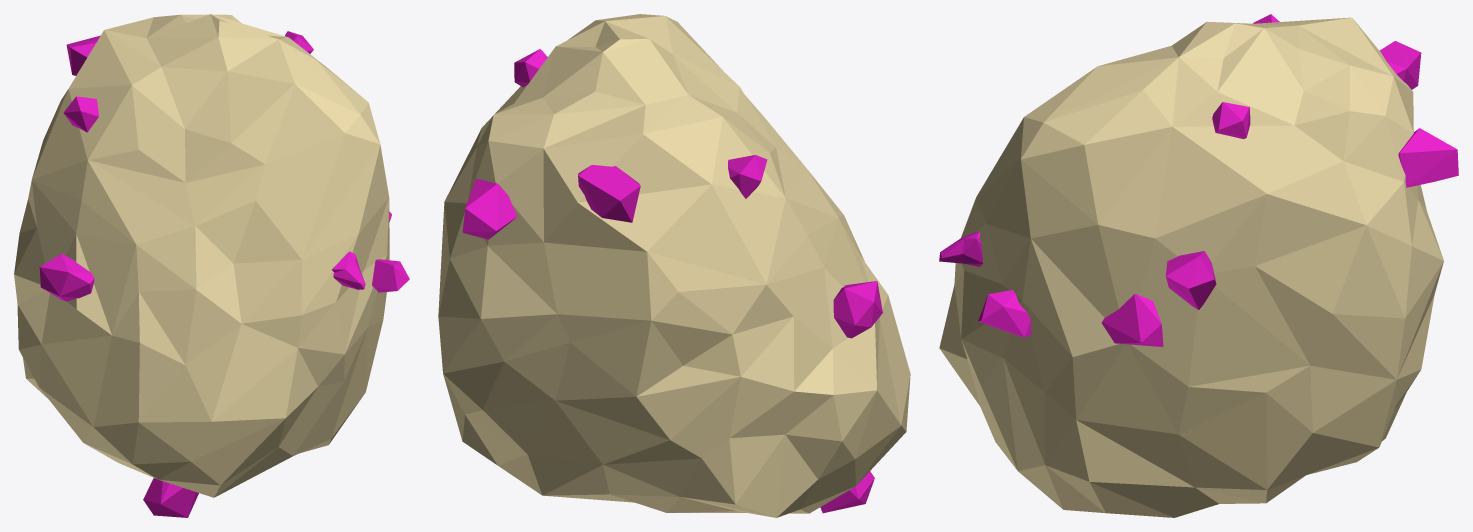
File: CrystalOre (1).fbx
3 views of the same model, side by side, from view 1: azimuth 30°, elevation 25°; view 2: azimuth 150°, elevation 25°; view 3: azimuth 270°, elevation 25° (orthographic). The views are drawn at different scales.
Parts seen in each view (by area): view 1: Asteroid285; view 2: Asteroid285; view 3: Asteroid285.
Boxes of the visible parts, bbox=[...] form: Asteroid285: bbox=[14, 14, 409, 517]; Asteroid285: bbox=[438, 14, 910, 517]; Asteroid285: bbox=[939, 14, 1458, 517].
Size of the model in its own units: 606 by 713 by 666.
